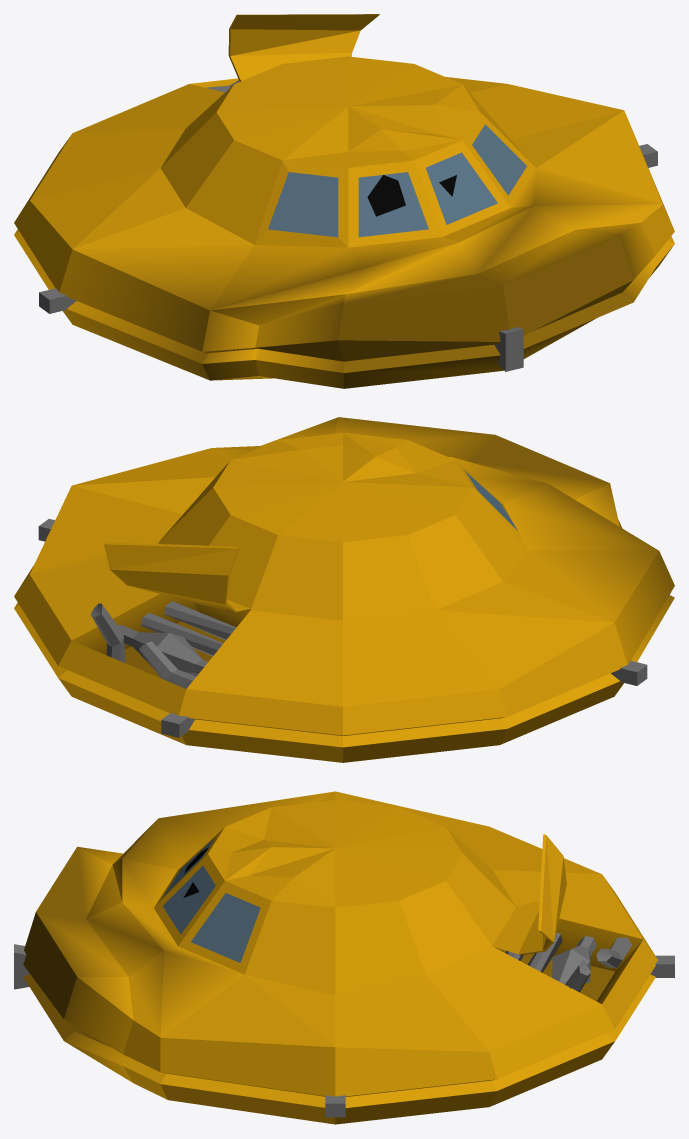
Rendered from ufo_broken.fbx.
3 views of the same model, one above another, from view 1: azimuth 30°, elevation 25°; view 2: azimuth 150°, elevation 25°; view 3: azimuth 270°, elevation 25° (orthographic). The views are drawn at different scales.
Parts seen in each view (by area): view 1: ufo_gold, ufo_vertex; view 2: ufo_gold, ufo_vertex; view 3: ufo_gold, ufo_vertex.
Boxes of the visible parts, x1=… form: ufo_gold: x1=14, y1=14, x2=674, y2=388; ufo_vertex: x1=39, y1=80, x2=657, y2=371; ufo_gold: x1=14, y1=417, x2=674, y2=762; ufo_vertex: x1=38, y1=471, x2=647, y2=737; ufo_gold: x1=23, y1=791, x2=657, y2=1124; ufo_vertex: x1=14, y1=837, x2=674, y2=1117.
Size of the model in its own units: 12.61 by 4.17 by 12.28.
